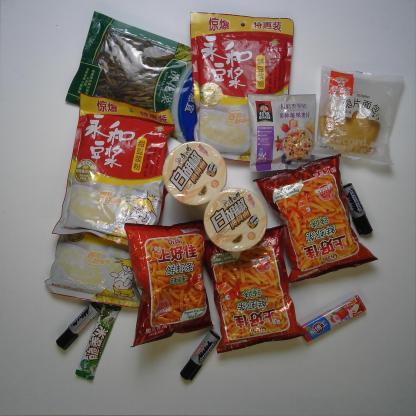Candy: (302, 295, 366, 342)
Chocolate: (77, 302, 124, 381)
Dessert: (316, 64, 404, 166)
Dried Food: (64, 12, 209, 142)
Instant Drink: (52, 93, 174, 250), (190, 10, 292, 166), (46, 204, 150, 309), (246, 90, 319, 172)
Instant Noodles: (162, 142, 227, 206), (204, 188, 268, 251)
Puffed Food: (252, 153, 376, 283), (196, 224, 306, 353), (124, 221, 215, 347)
Stationery: (56, 302, 100, 350), (180, 330, 221, 381), (342, 183, 374, 236)
